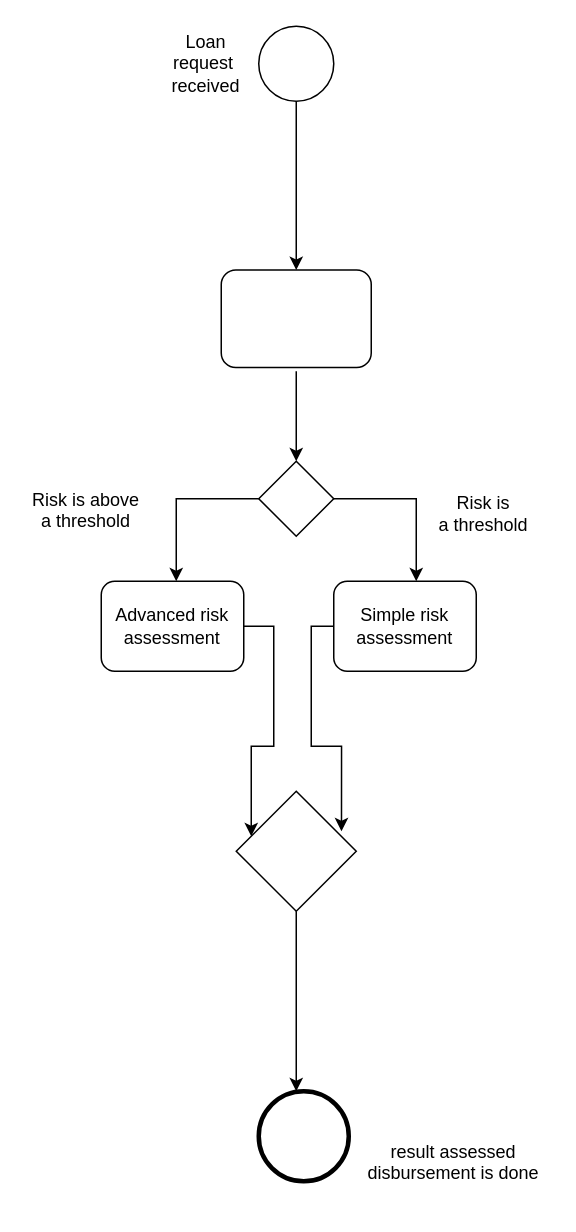
Image size: 576x1232. Some labels were removed from this diagram. The shapes that lost their labels are listed below. From the top down, each one's centre as x and y in pixels, then its label:
the point at 295,318: Risk Assessed
the point at 295,850: Ssessment completed
